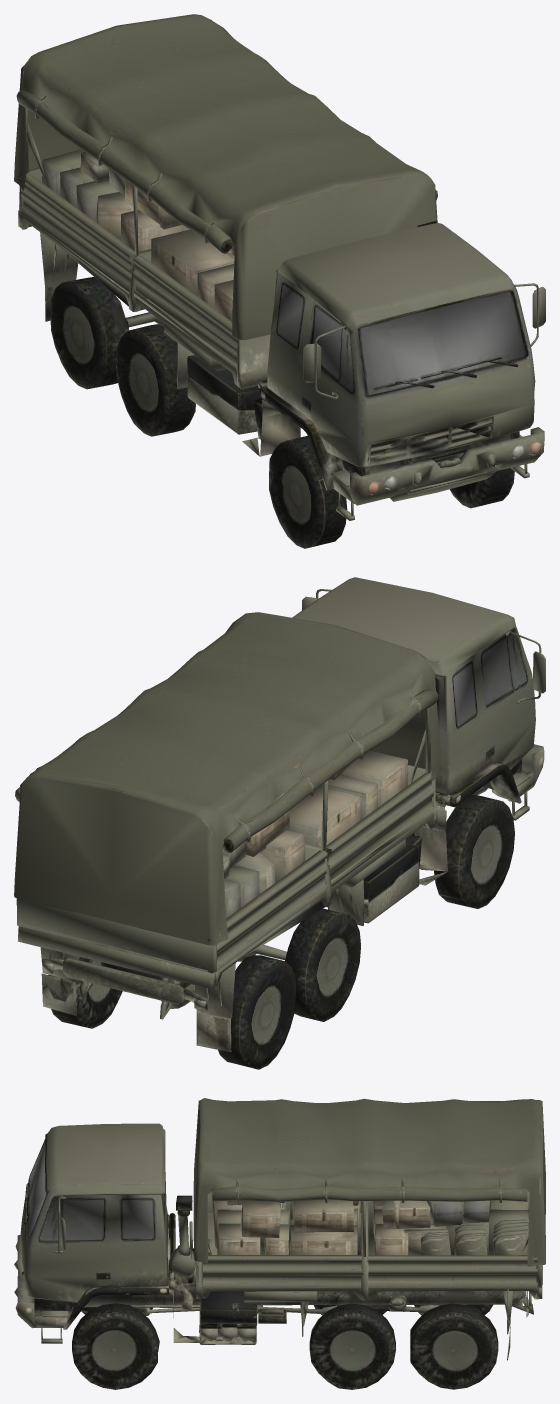
The model's file is supply_truck.glb.
3 views of the same model, one above another, from view 1: azimuth 30°, elevation 25°; view 2: azimuth 150°, elevation 25°; view 3: azimuth 270°, elevation 25° (orthographic). The views are drawn at different scales.
Parts seen in each view (by area): view 1: hull; view 2: hull; view 3: hull.
Boxes of the visible parts, x1,y1,x2,y2 form: hull: (14, 14, 545, 548); hull: (14, 577, 545, 1069); hull: (14, 1098, 545, 1389).
Bounding box in the file's own units: 2.86 × 3.35 × 7.
Materials: 3 (3 with a texture image).
